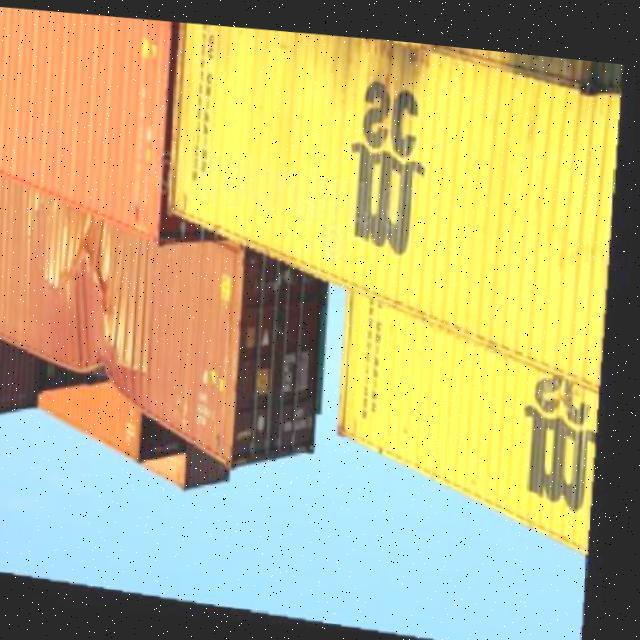dent: (41, 246, 129, 397)
